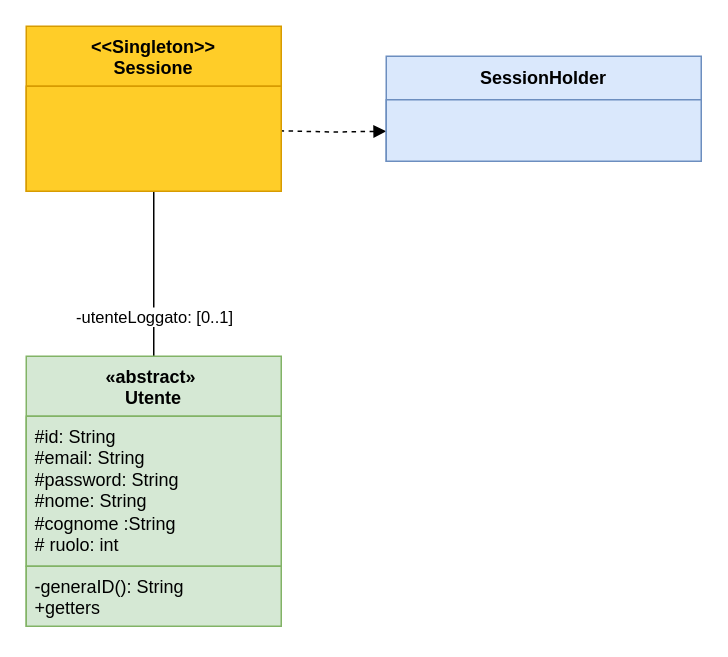
This 728x657 diagram has some shape labels left out. The shapes that lost their labels are listed below. From the top down, each one's box as (x1, y1, x2, y2) in pixels, then its label:
(25, 85, 281, 191): -Sessione() +getInstance(): Sessione +getUtente(): Utente +setUtente(u: Utente)
(385, 98, 701, 161): -INSTANCE: Sessione «static inner»
